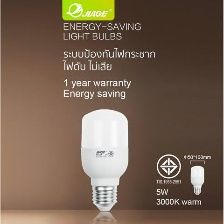light_bulb: (77, 106, 129, 214), (189, 164, 205, 195)
